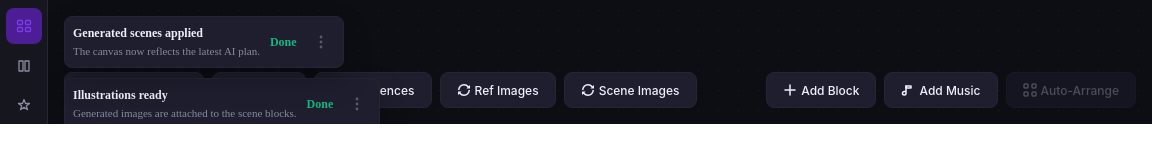
Scenario: StoryboardPageWorkspace — status menu wiring (T6 integration) › hides a single block and leaves the sibling visible (AC-02)
The width and height of the screenshot is (1152, 160).
Expected: the element with test id "storyboard-plan-controls" is shown, [64,16,344,68]
Expected: the element with test id "storyboard-illustration-controls" is shown, [64,78,380,124]
// Hide the plan (scenes) block.
Click the 1st button with test id "storyboard-status-menu-trigger".
click(321, 42)  # box [307,28,335,56]
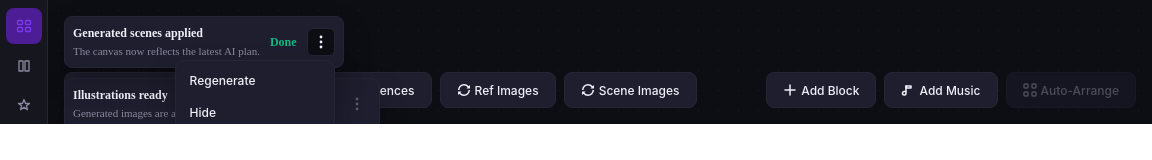
Click the menu item with test id "storyboard-status-menu-hide".
click(255, 113)  # box [180,97,330,129]
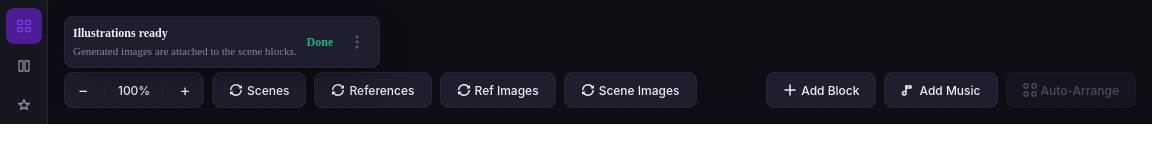
Expected: the element with test id "storyboard-illustration-controls" is shown, [64,16,380,68]
Expected: the element with test id "storyboard-plan-controls" is gone
